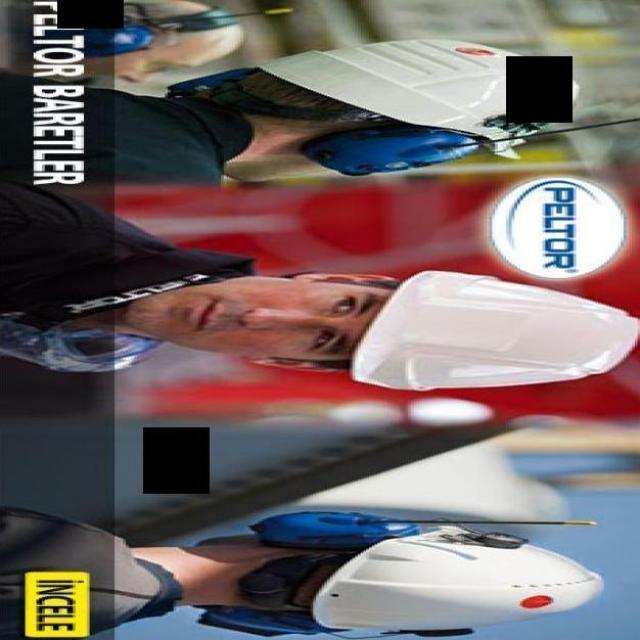white helmet: (351, 269, 640, 398), (257, 41, 582, 153), (308, 522, 606, 638)
